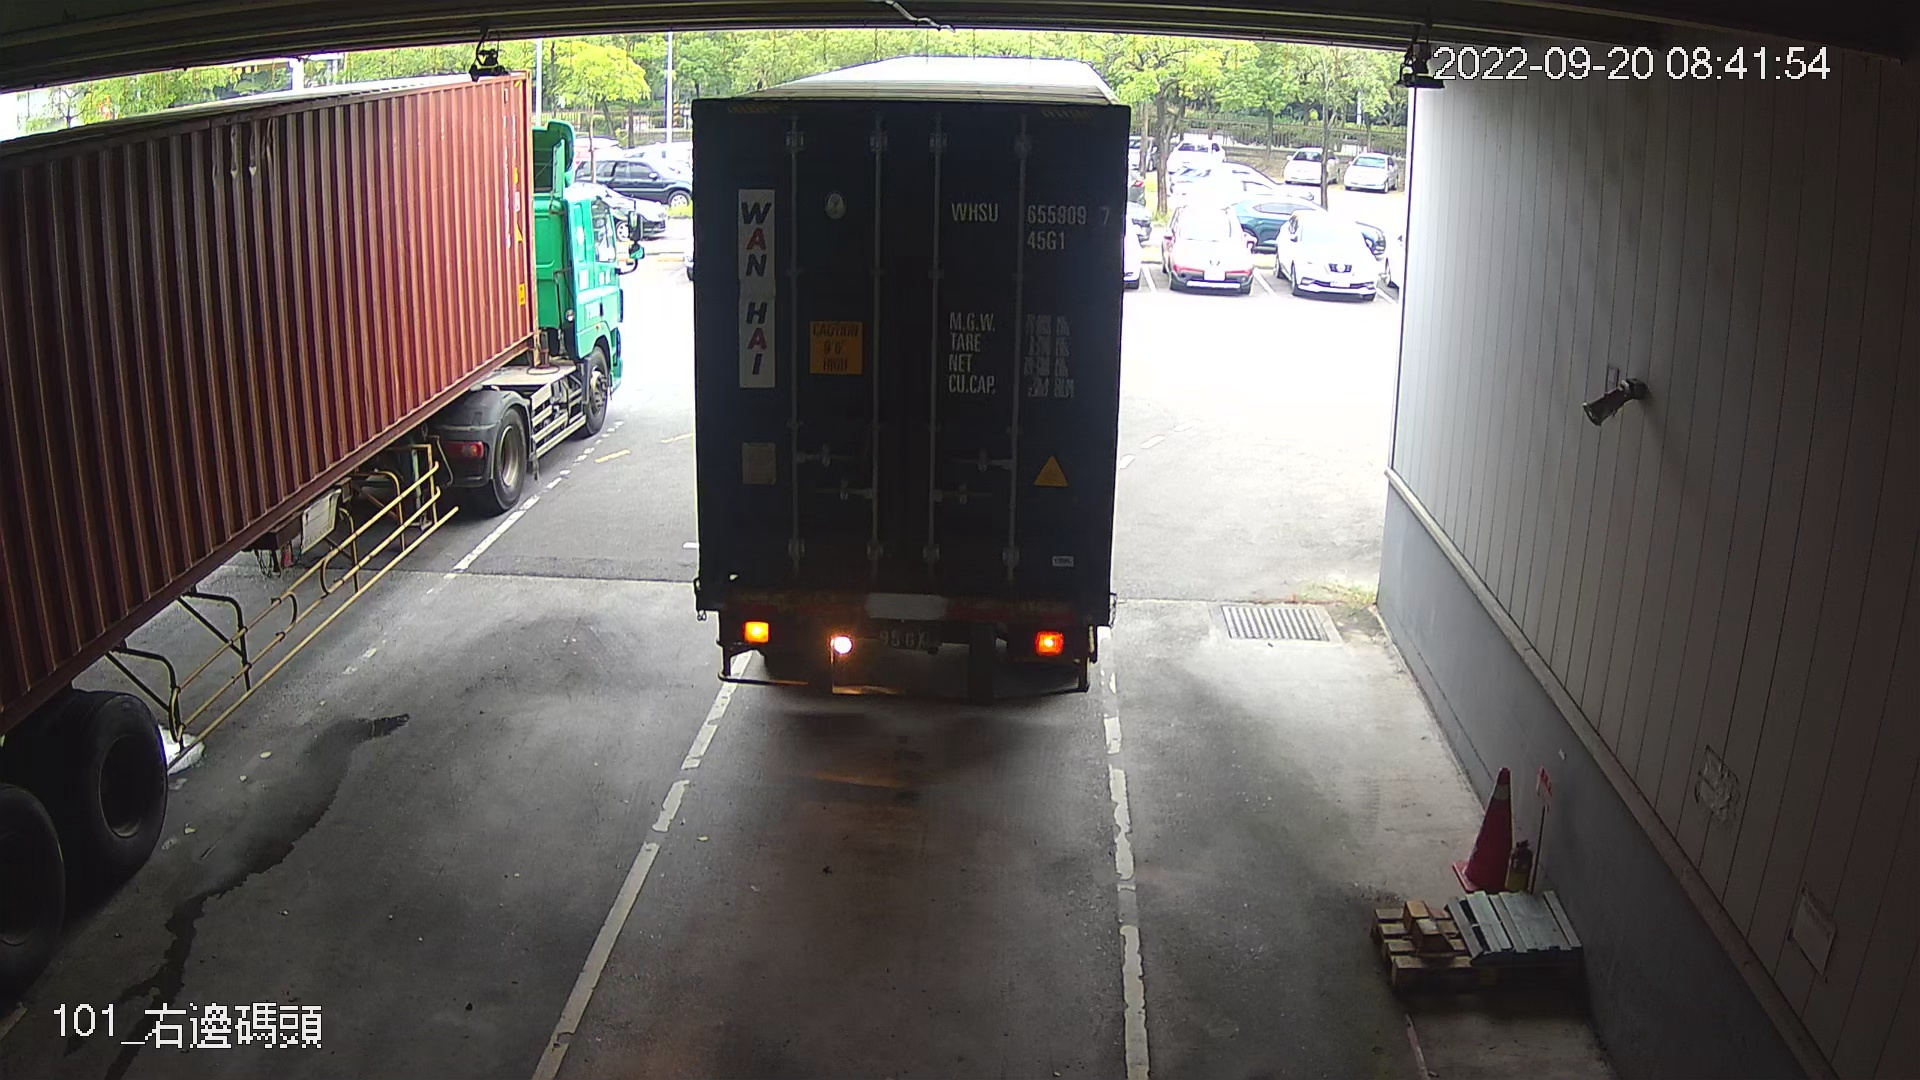container: (942, 191, 1120, 260)
